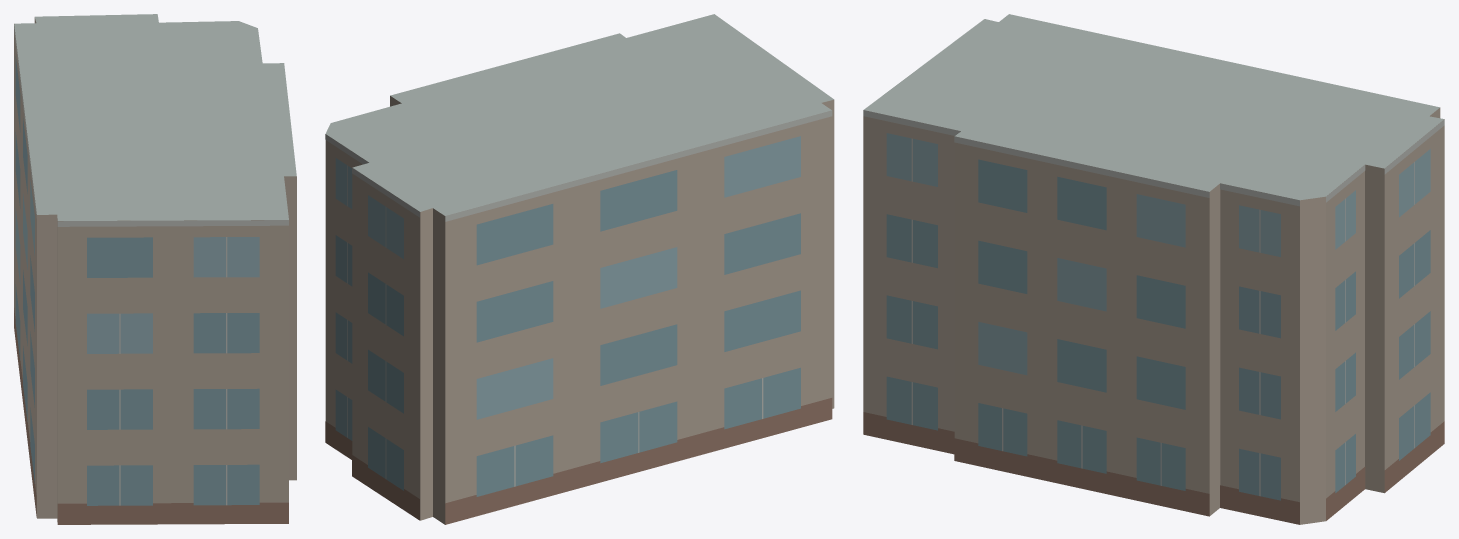
File: survey-upis-32960583.glb
3 renders of one model, left to right at view 1: azimuth 30°, elevation 25°; view 2: azimuth 150°, elevation 25°; view 3: azimuth 270°, elevation 25°, orthographic. The views are drawn at different scales.
Visible parts, largest first — view 1: survey-upis-32960583.tmp; view 2: survey-upis-32960583.tmp; view 3: survey-upis-32960583.tmp.
Boxes of the visible parts, x1,y1,x2,y2 form: survey-upis-32960583.tmp: (14, 14, 296, 524); survey-upis-32960583.tmp: (325, 14, 834, 524); survey-upis-32960583.tmp: (863, 14, 1444, 524).
Bounding box in the file's own units: 15.76 × 12.8 × 20.78.
